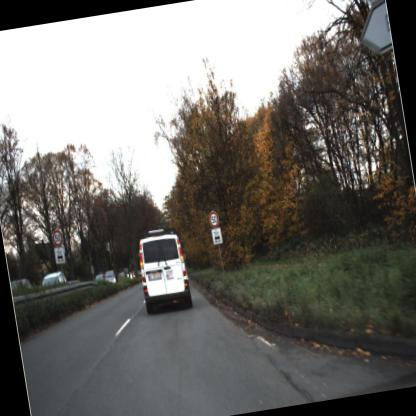prohibitory: (48, 223, 65, 248), (206, 208, 222, 226)
